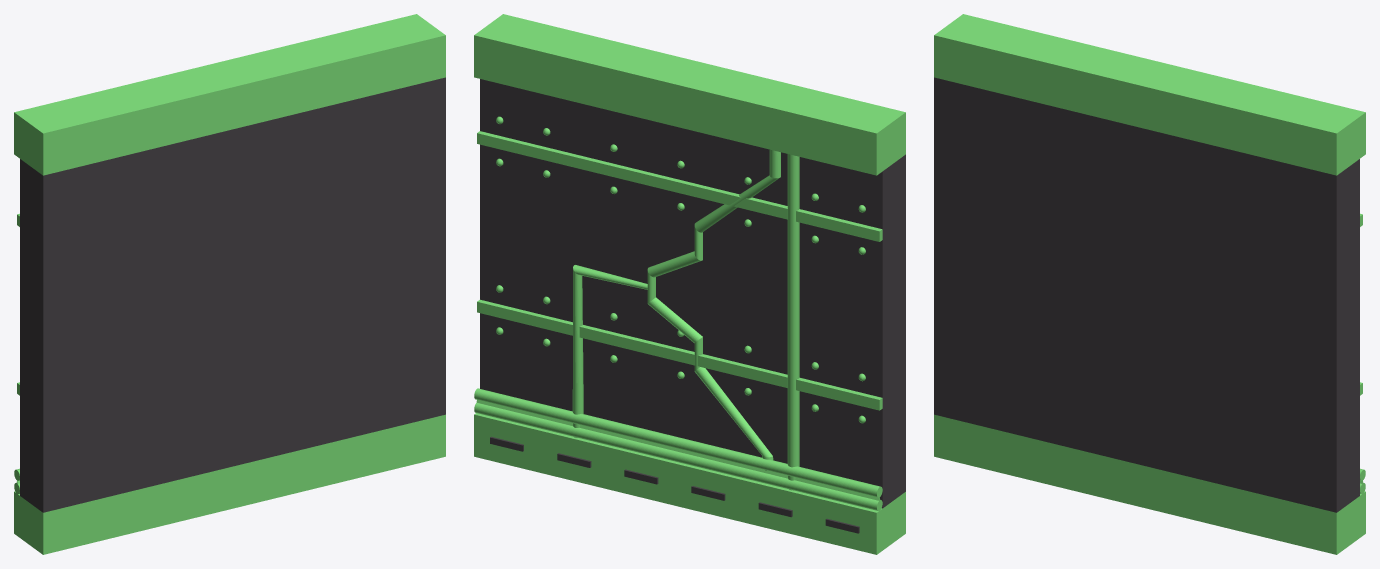
Rendered from Wall_Basic_C.fbx.
3 views of the same model, side by side, from view 1: azimuth 30°, elevation 25°; view 2: azimuth 150°, elevation 25°; view 3: azimuth 330°, elevation 25° (orthographic).
Parts seen in each view (by area): view 1: Wall_Basic_C; view 2: Wall_Basic_C; view 3: Wall_Basic_C.
Boxes of the visible parts, bbox=[...] form: Wall_Basic_C: bbox=[14, 14, 445, 554]; Wall_Basic_C: bbox=[474, 14, 905, 554]; Wall_Basic_C: bbox=[934, 14, 1365, 554].
Size of the model in its own units: 200 by 201 by 26.
